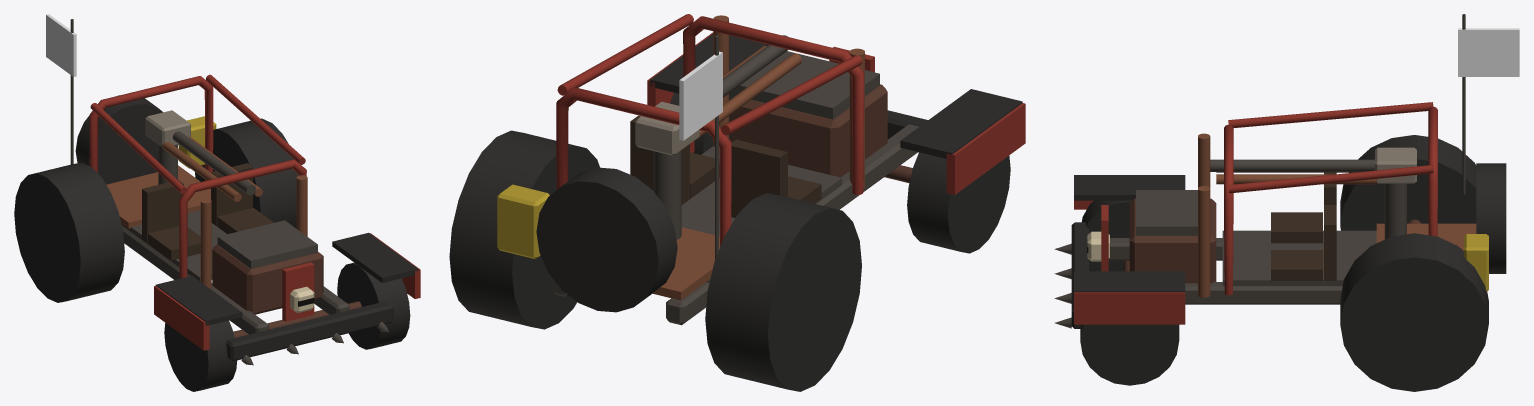
3 views of the same model, side by side, from view 1: azimuth 30°, elevation 25°; view 2: azimuth 150°, elevation 25°; view 3: azimuth 270°, elevation 25° (orthographic). The views are drawn at different scales.
Visible parts, largest first — view 1: raider_vehicle_buggy; view 2: raider_vehicle_buggy; view 3: raider_vehicle_buggy.
Part boxes in pixels (<box>): raider_vehicle_buggy: <box>14,14,420,391</box>; raider_vehicle_buggy: <box>449,14,1025,391</box>; raider_vehicle_buggy: <box>1054,14,1519,391</box>.
Size of the model in its own units: 2.34 by 2.5 by 3.76.
